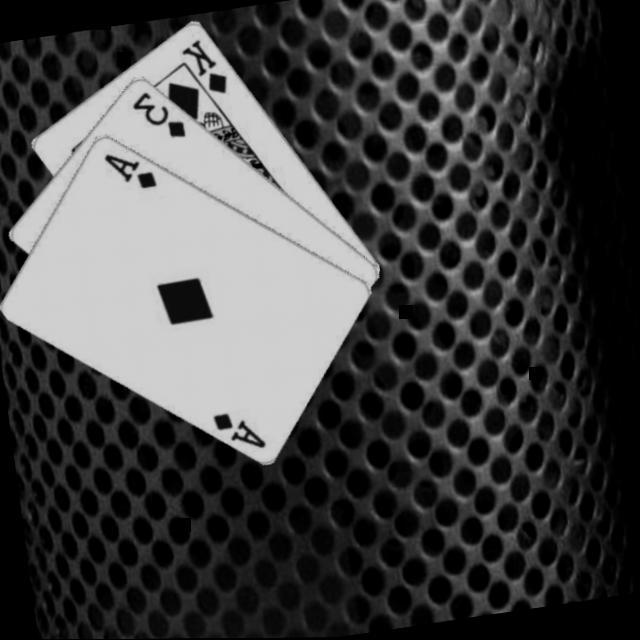3D: (128, 81, 190, 145)
AD: (100, 141, 162, 195), (210, 402, 271, 456)
KD: (178, 30, 232, 100)
